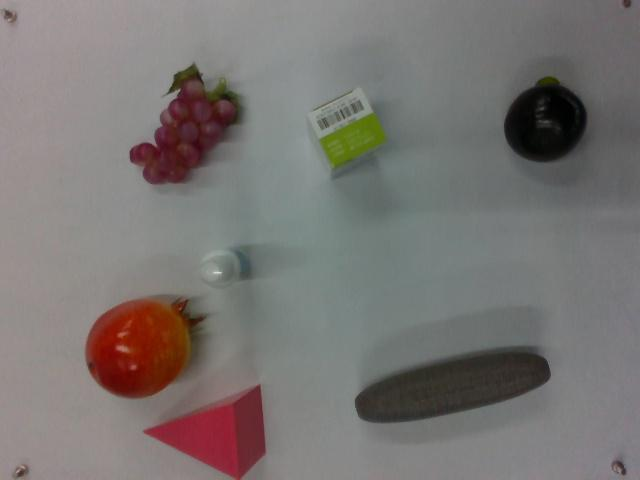carton: (309, 81, 390, 183)
detergent: (202, 241, 251, 288)
glassescase: (353, 346, 553, 431)
grape: (129, 65, 245, 189)
mangosteen: (502, 79, 589, 166)
pomegranate: (83, 292, 209, 405)
pyramid: (143, 385, 268, 478)
